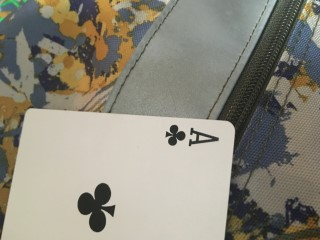AceOfClubs: (1, 108, 236, 240)
